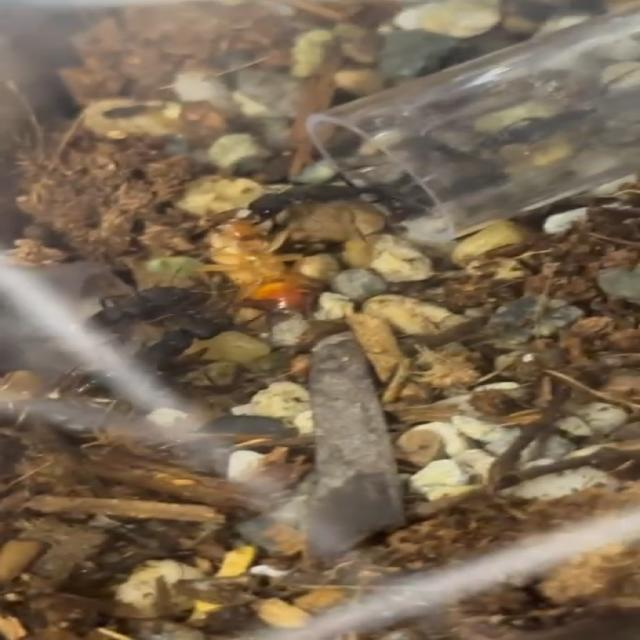Minor: (238, 173, 455, 230)
